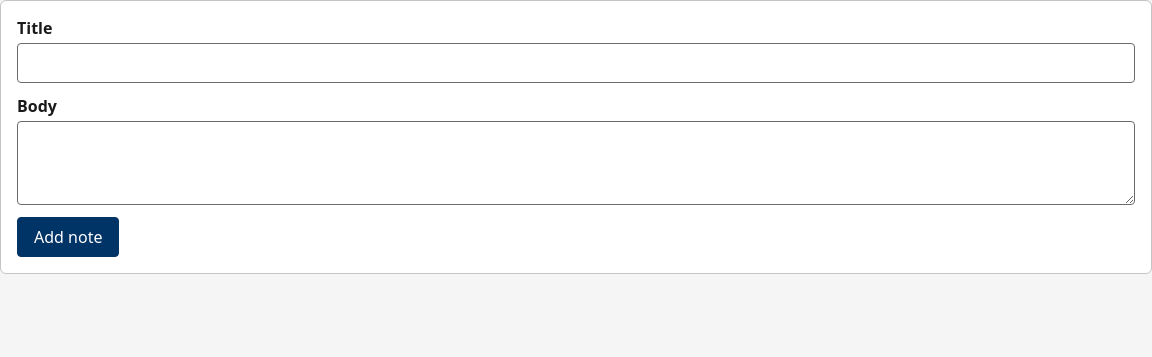
Test case: NoteForm › shows an error and does not submit when the title is empty
Click the button "Add note" at (68, 237), box [17, 217, 119, 257]
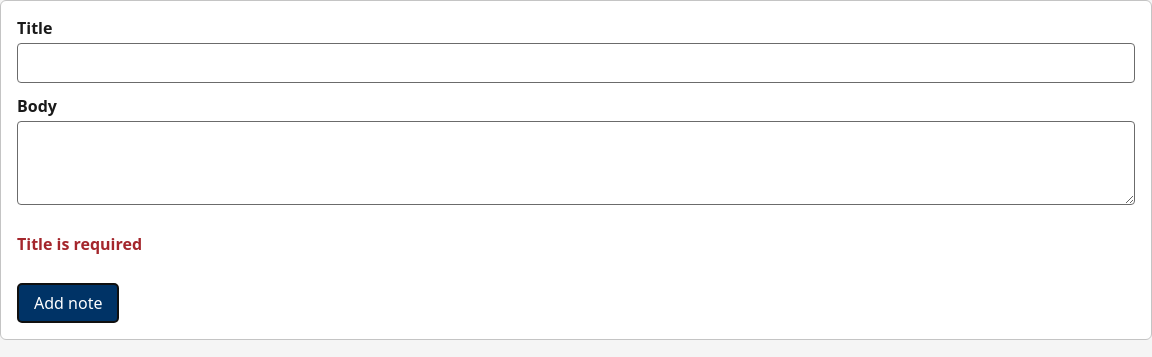
Check: the message reads "Title is required", box [17, 233, 142, 255]
